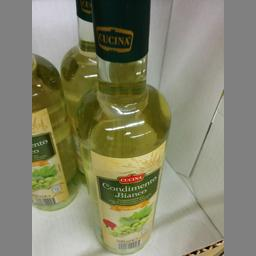vinegar: (79, 1, 169, 255), (30, 52, 81, 210)
